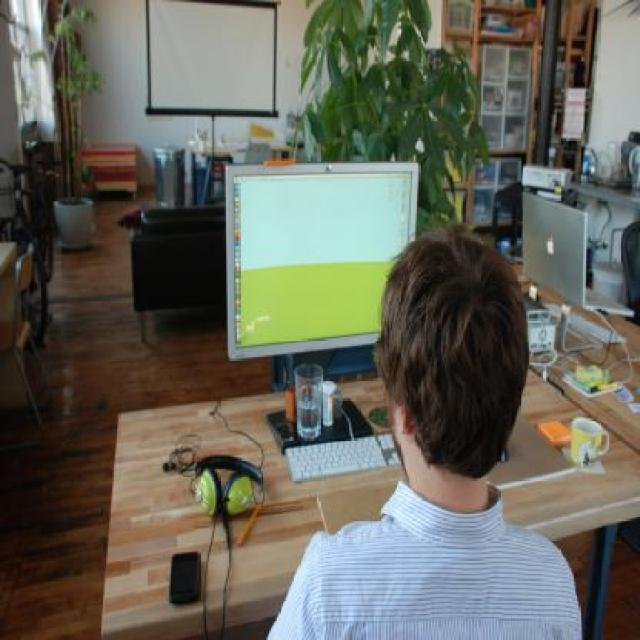earphone: (187, 444, 278, 524)
laptop_computer: (217, 158, 430, 375)
smart phone: (153, 533, 210, 610)
